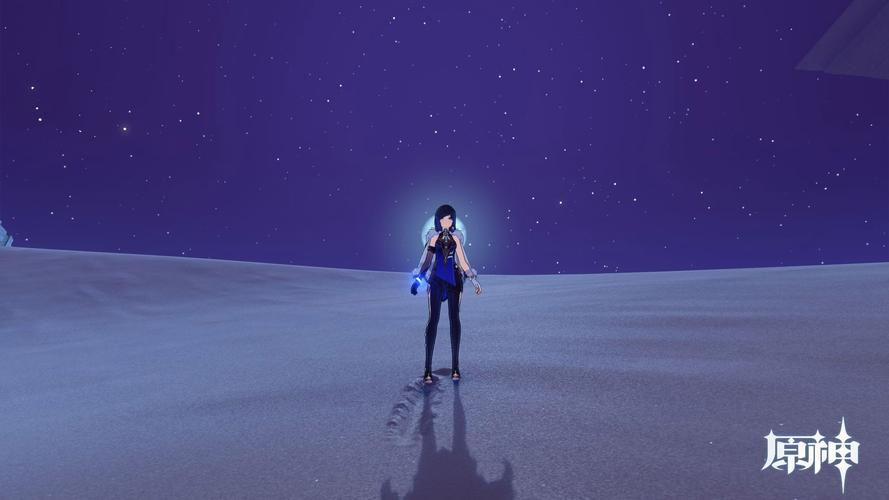夜兰: (405, 197, 485, 389)
